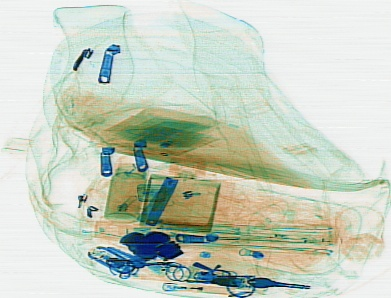lighter: (161, 280, 234, 293)
